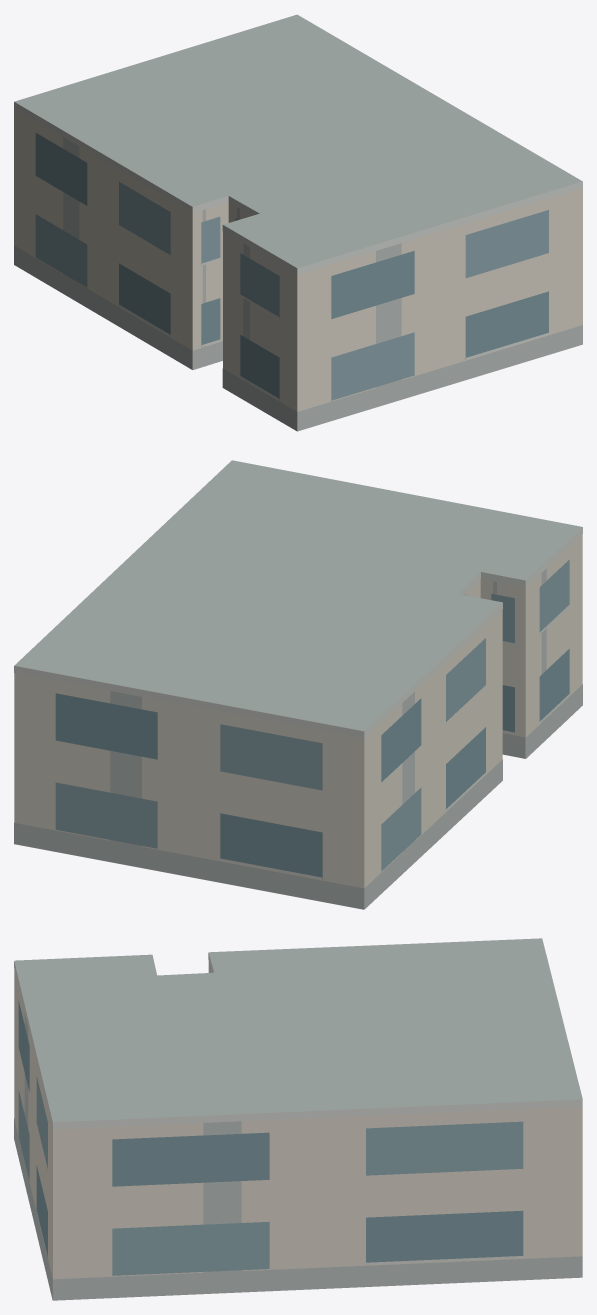
The model's file is survey-upis-32667109.glb.
The picture shows the model from 3 angles, top to bottom: view 1: azimuth 30°, elevation 25°; view 2: azimuth 150°, elevation 25°; view 3: azimuth 270°, elevation 25°; orthographic projection. The views are drawn at different scales.
Visible parts, largest first — view 1: survey-upis-32667109.tmp; view 2: survey-upis-32667109.tmp; view 3: survey-upis-32667109.tmp.
Part boxes in pixels (box(x1,y1,x2,y2)): survey-upis-32667109.tmp: box(14, 14, 582, 431); survey-upis-32667109.tmp: box(14, 460, 582, 909); survey-upis-32667109.tmp: box(14, 938, 582, 1300).
Bounding box in the file's own units: 13.51 × 6.1 × 17.64.
